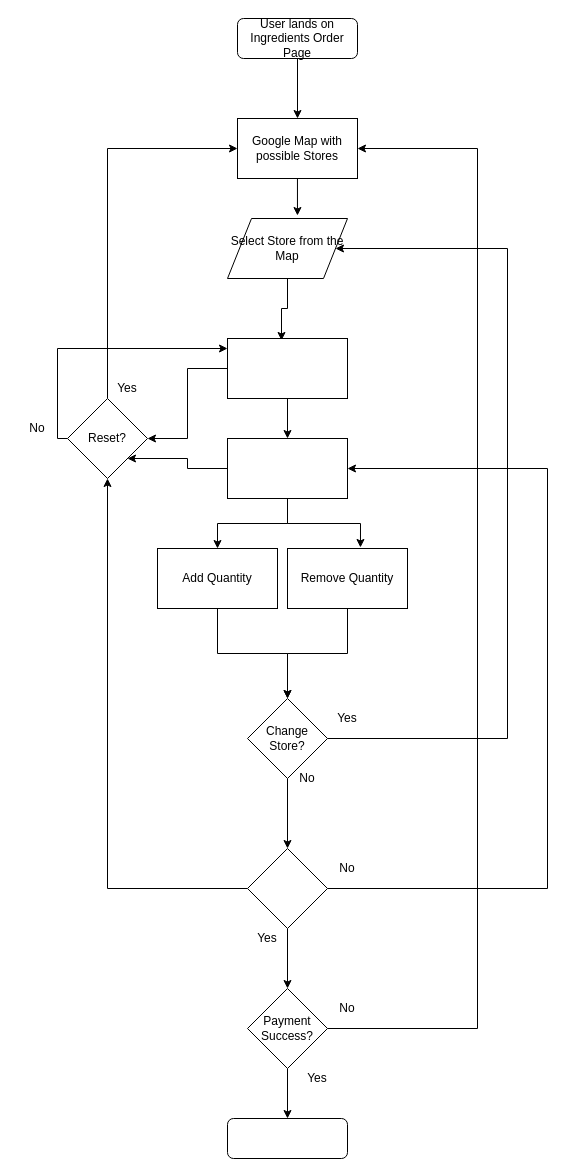
Some shapes in this 573 by 1176 pixel diagram are drawn without their labels. Here are the shapes that lost their labels. From the top down, the centre of each, then its label:
point 287,368: Ingredients Menu for selected Store
point 287,468: Choose Ingredient
point 287,888: Checkout?
point 287,1138: Order Placed
